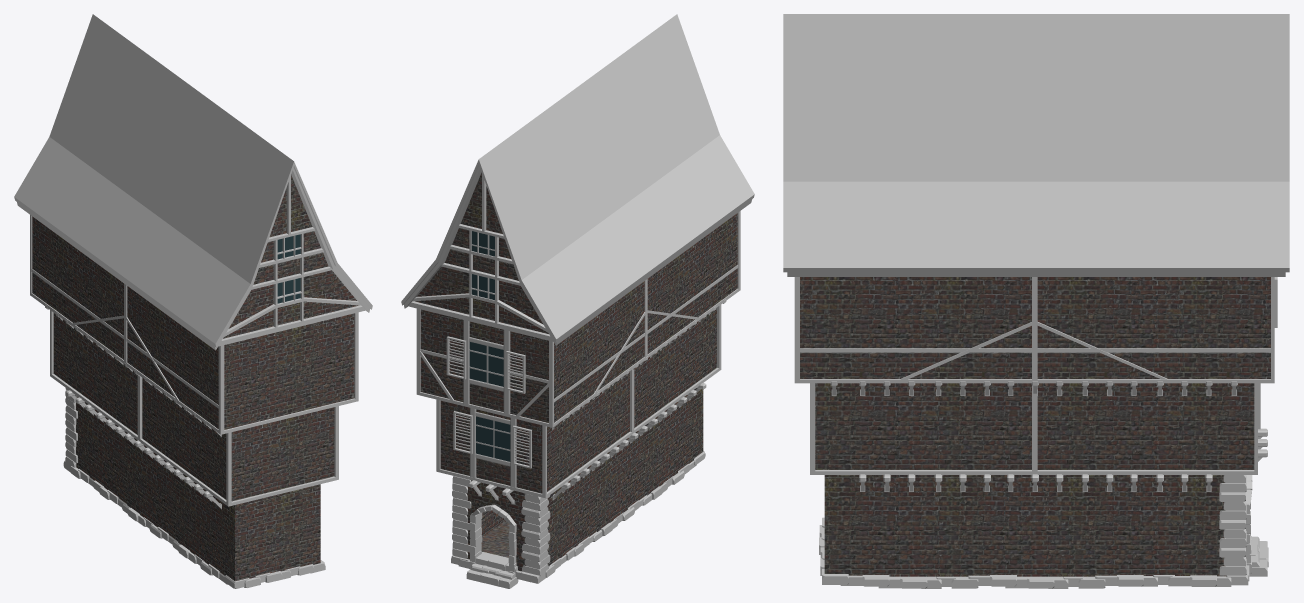
The model's file is Houses3.fbx.
3 views of the same model, side by side, from view 1: azimuth 30°, elevation 25°; view 2: azimuth 150°, elevation 25°; view 3: azimuth 270°, elevation 25° (orthographic). The views are drawn at different scales.
Visible parts, largest first — view 1: HOuse3Top, House3Bottom; view 2: HOuse3Top, House3Bottom; view 3: HOuse3Top, House3Bottom.
Boxes of the visible parts, x1,y1,x2,y2 form: HOuse3Top: (14,14,372,509); House3Bottom: (63,388,325,588); HOuse3Top: (401,14,754,504); House3Bottom: (451,388,705,588); HOuse3Top: (783,14,1289,491); House3Bottom: (819,475,1268,588).
Size of the model in its own units: 599 by 1591 by 1328.
